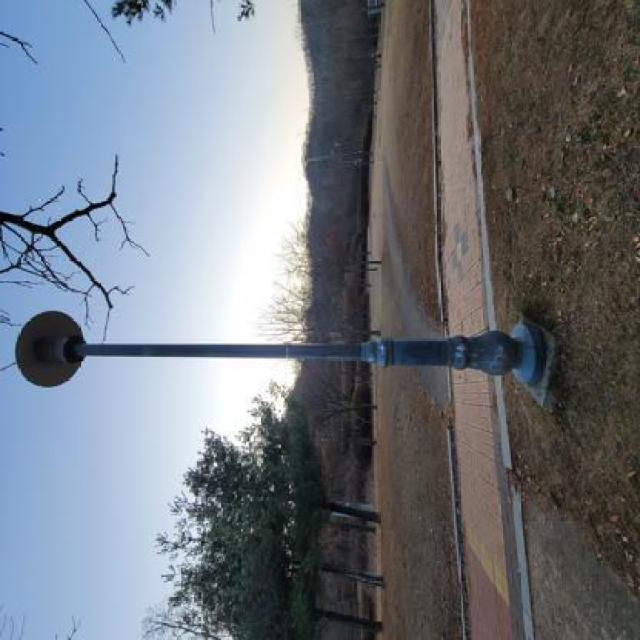pole: (89, 314, 560, 386)
